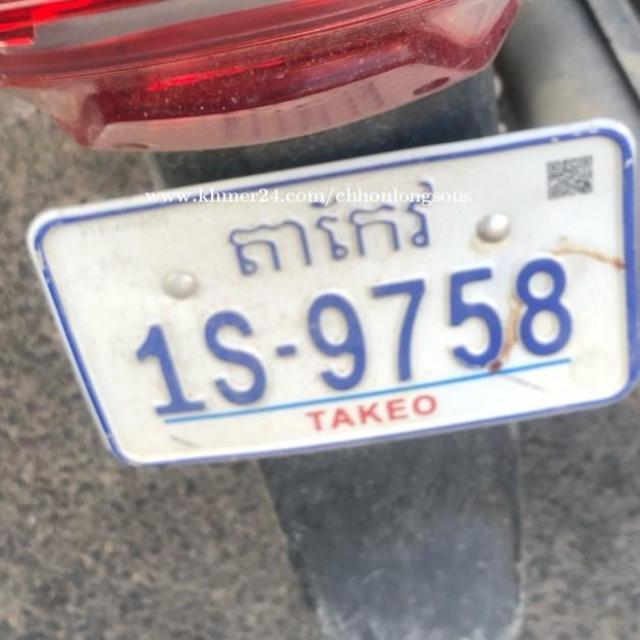Takeo: (224, 177, 440, 284)
